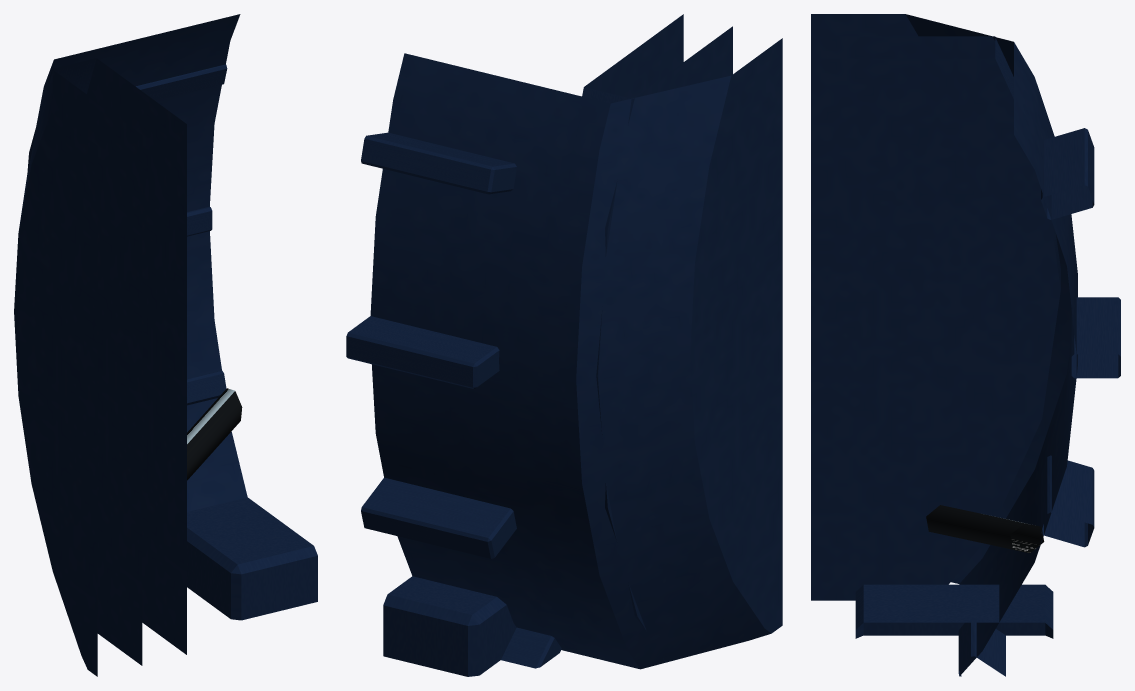
Rendered from cell_28.obj.
3 views of the same model, side by side, from view 1: azimuth 30°, elevation 25°; view 2: azimuth 150°, elevation 25°; view 3: azimuth 270°, elevation 25° (orthographic). The views are drawn at different scales.
Visible parts, largest first — view 1: cell_28; view 2: cell_28; view 3: cell_28.
Boxes of the visible parts, x1,y1,x2,y2 form: cell_28: (14,14,317,676); cell_28: (346,14,782,676); cell_28: (811,14,1120,676).
Size of the model in its own units: 0.4775 by 1 by 0.5181.
